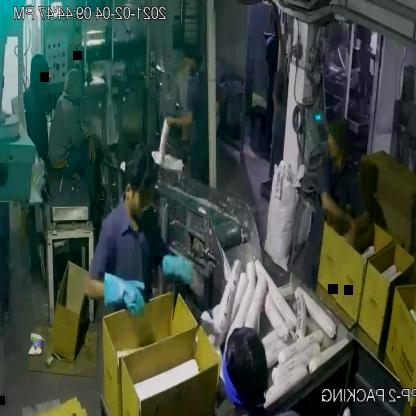glove: (93, 261, 146, 315), (162, 240, 202, 282)
no_glove: (340, 196, 378, 254), (314, 192, 356, 240), (158, 100, 201, 130), (81, 126, 99, 174)
